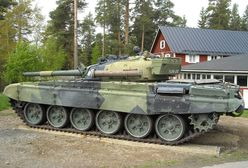t72: (4, 48, 231, 140)
